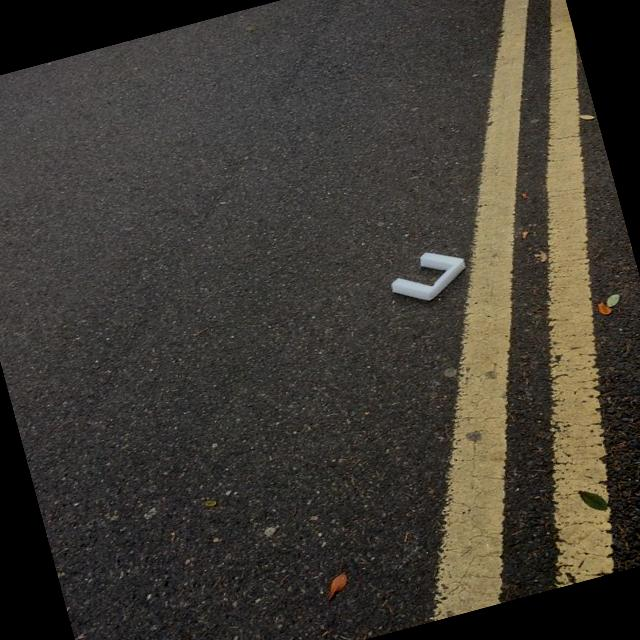Trash: (382, 237, 496, 317)
